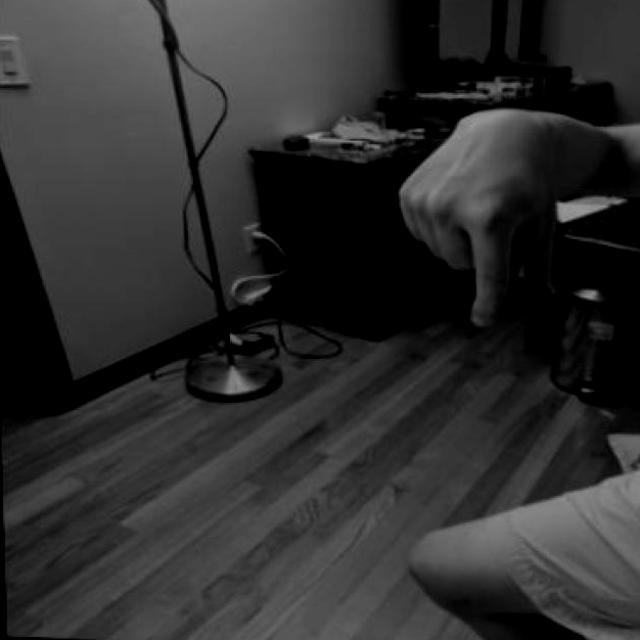Q: (389, 96, 597, 339)
